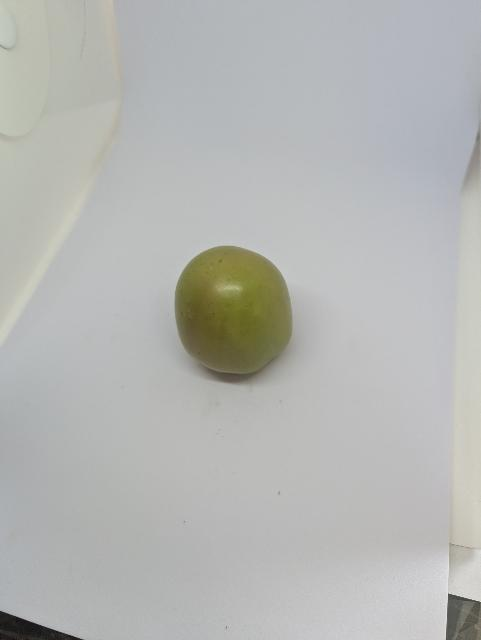green: (171, 245, 311, 393)
